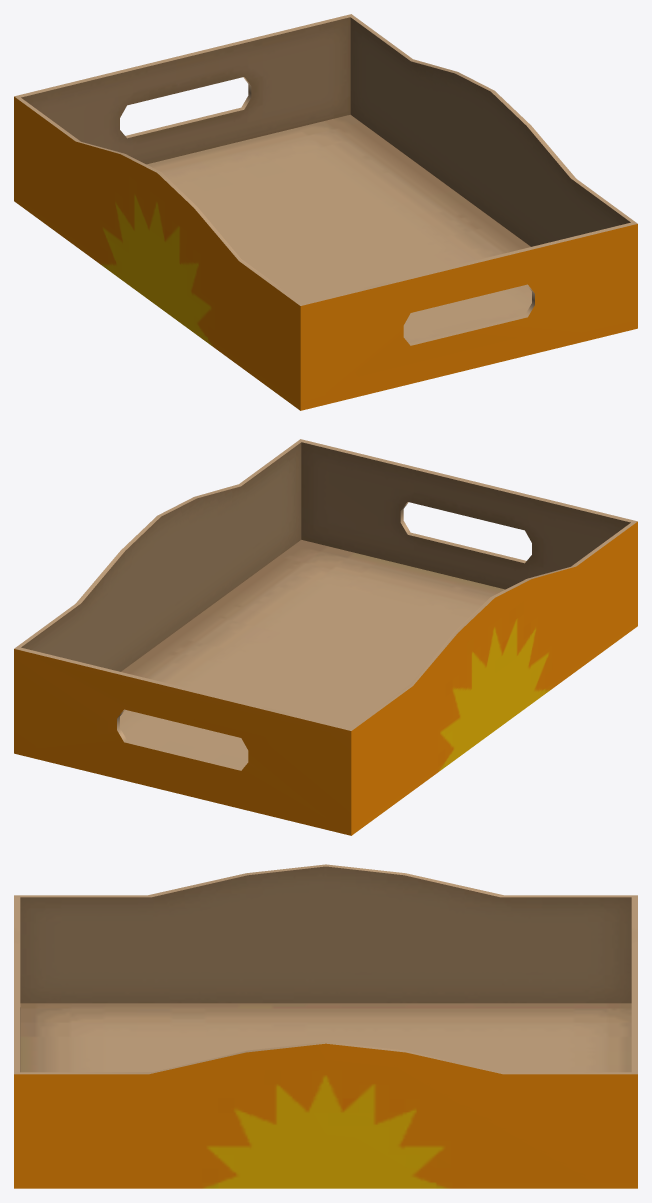
File: Cardboard_Box_02.fbx
3 renders of one model, top to bottom at view 1: azimuth 30°, elevation 25°; view 2: azimuth 150°, elevation 25°; view 3: azimuth 270°, elevation 25°, orthographic. The views are drawn at different scales.
Visible parts, largest first — view 1: Cardboard_Box_02_Clone_; view 2: Cardboard_Box_02_Clone_; view 3: Cardboard_Box_02_Clone_.
Part boxes in pixels (left/top/right/bottom): Cardboard_Box_02_Clone_: left=14, top=14, right=637, bottom=410; Cardboard_Box_02_Clone_: left=14, top=439, right=637, bottom=835; Cardboard_Box_02_Clone_: left=14, top=864, right=637, bottom=1188.
Bounding box in the file's own units: 799 × 301 × 1175.
Materials: 1 (1 with a texture image).
